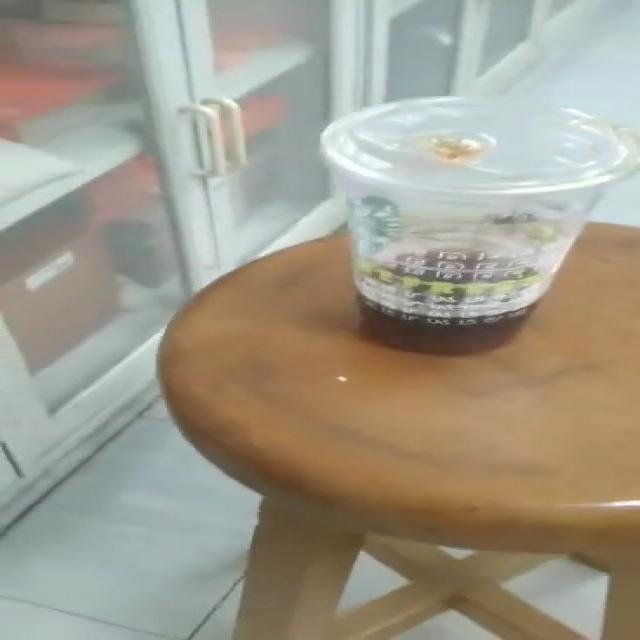bottle: (350, 188, 602, 354)
